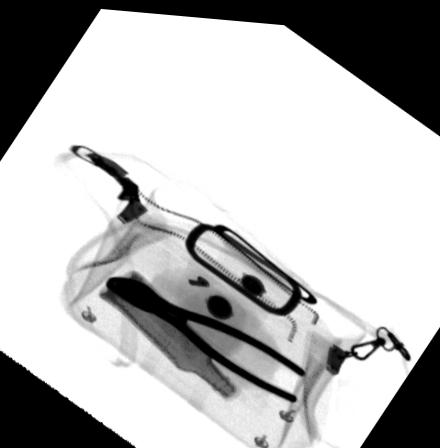Pliers: (104, 274, 307, 398)
